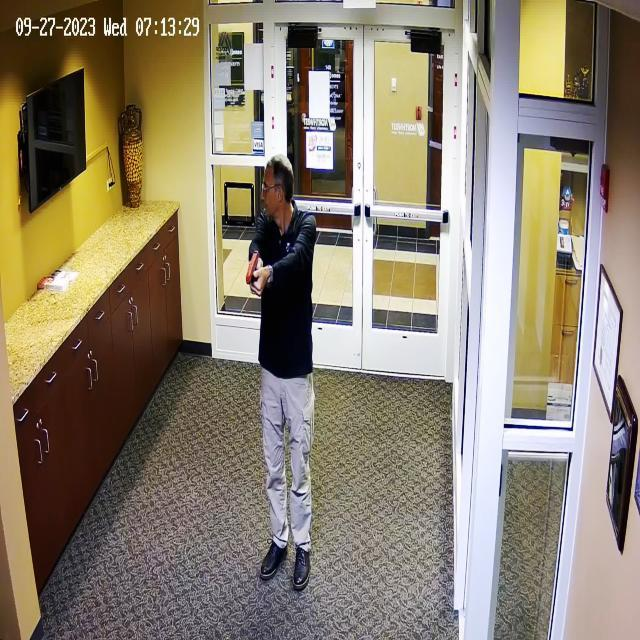Gun: (232, 249, 270, 294)
